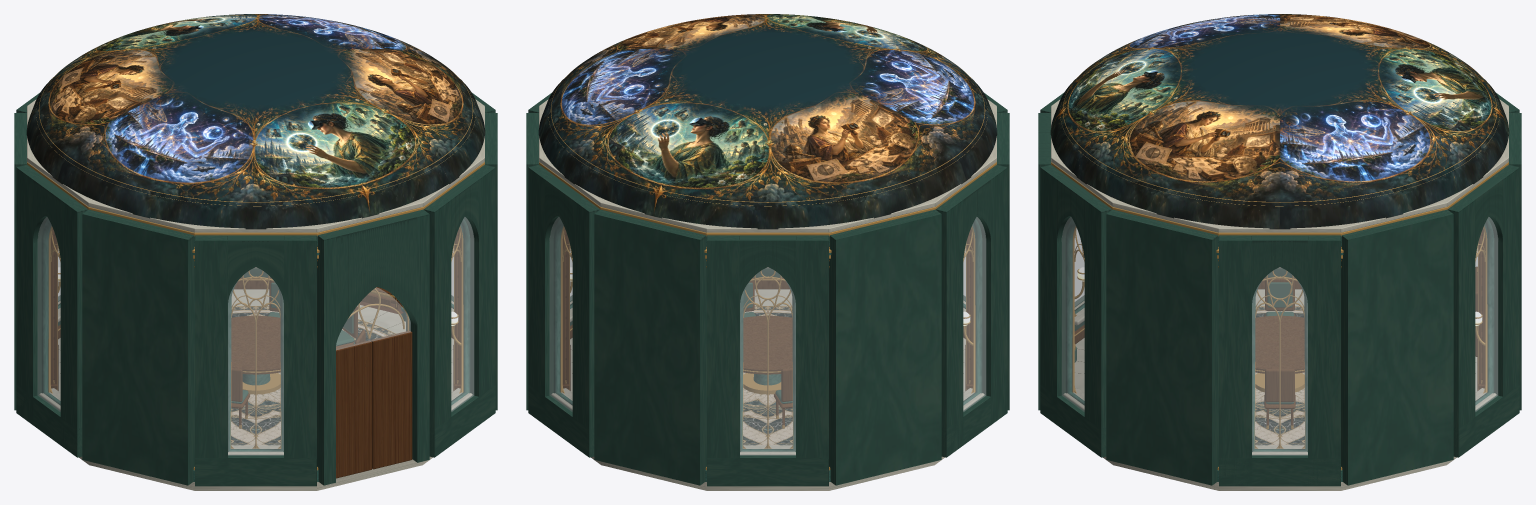
File: XR_Guild_Library_v1.glb
3 renders of one model, left to right at view 1: azimuth 30°, elevation 25°; view 2: azimuth 150°, elevation 25°; view 3: azimuth 270°, elevation 25°, orthographic.
Visible parts, largest first — view 1: Architecture | Deep malachite green plaster, Architecture | Fresco | Past / Present / Future | packed ori, Architecture | Clear architectural glass | transparent, not , Architecture | Warm ivory limestone, Architecture | Gilt brass | gently aged, Door_Right | Handcrafted figured walnut, Door_Left | Handcrafted figured walnut, Architecture | Verde antique marble, Optional_Meeting_Furniture | Handcrafted figured walnut, Architecture | Handcrafted figured walnut, Architecture | Mandala | veined marble intarsia, Optional_Meeting_Furniture | Bottle green velvet (+1 smaller); view 2: Architecture | Deep malachite green plaster, Architecture | Fresco | Past / Present / Future | packed ori, Architecture | Clear architectural glass | transparent, not , Architecture | Warm ivory limestone, Architecture | Gilt brass | gently aged, Architecture | Verde antique marble, Optional_Meeting_Furniture | Handcrafted figured walnut, Architecture | Handcrafted figured walnut, Architecture | Mandala | veined marble intarsia, Optional_Meeting_Furniture | Gilt brass | gently aged; view 3: Architecture | Deep malachite green plaster, Architecture | Fresco | Past / Present / Future | packed ori, Architecture | Clear architectural glass | transparent, not , Architecture | Warm ivory limestone, Architecture | Gilt brass | gently aged, Architecture | Verde antique marble, Optional_Meeting_Furniture | Handcrafted figured walnut, Architecture | Mandala | veined marble intarsia, Architecture | Handcrafted figured walnut, Optional_Meeting_Furniture | Bottle green velvet.
Part boxes in pixels (x1=…): Architecture | Deep malachite green plaster: x1=14, y1=93, x2=497, y2=486; Architecture | Fresco | Past / Present / Future | packed ori: x1=26, y1=14, x2=485, y2=229; Architecture | Clear architectural glass | transparent, not : x1=38, y1=217, x2=473, y2=455; Architecture | Warm ivory limestone: x1=27, y1=99, x2=484, y2=490; Architecture | Gilt brass | gently aged: x1=27, y1=65, x2=484, y2=470; Door_Right | Handcrafted figured walnut: x1=371, y1=330, x2=412, y2=469; Door_Left | Handcrafted figured walnut: x1=336, y1=340, x2=372, y2=478; Architecture | Verde antique marble: x1=41, y1=219, x2=470, y2=481; Optional_Meeting_Furniture | Handcrafted figured walnut: x1=231, y1=278, x2=365, y2=425; Architecture | Handcrafted figured walnut: x1=50, y1=228, x2=461, y2=389; Architecture | Mandala | veined marble intarsia: x1=231, y1=306, x2=394, y2=445; Optional_Meeting_Furniture | Bottle green velvet: x1=231, y1=282, x2=359, y2=403; Architecture | Deep malachite green plaster: x1=526, y1=93, x2=1009, y2=486; Architecture | Fresco | Past / Present / Future | packed ori: x1=538, y1=14, x2=997, y2=229; Architecture | Clear architectural glass | transparent, not : x1=550, y1=217, x2=985, y2=455; Architecture | Warm ivory limestone: x1=539, y1=99, x2=996, y2=490; Architecture | Gilt brass | gently aged: x1=539, y1=65, x2=996, y2=470; Architecture | Verde antique marble: x1=553, y1=219, x2=982, y2=481; Optional_Meeting_Furniture | Handcrafted figured walnut: x1=743, y1=278, x2=792, y2=425; Architecture | Handcrafted figured walnut: x1=562, y1=228, x2=973, y2=389; Architecture | Mandala | veined marble intarsia: x1=743, y1=306, x2=792, y2=445; Optional_Meeting_Furniture | Gilt brass | gently aged: x1=743, y1=370, x2=784, y2=428; Architecture | Deep malachite green plaster: x1=1038, y1=93, x2=1521, y2=486; Architecture | Fresco | Past / Present / Future | packed ori: x1=1050, y1=14, x2=1509, y2=229; Architecture | Clear architectural glass | transparent, not : x1=1062, y1=217, x2=1497, y2=455; Architecture | Warm ivory limestone: x1=1051, y1=99, x2=1508, y2=490; Architecture | Gilt brass | gently aged: x1=1051, y1=65, x2=1508, y2=470; Architecture | Verde antique marble: x1=1065, y1=219, x2=1494, y2=481; Optional_Meeting_Furniture | Handcrafted figured walnut: x1=1255, y1=277, x2=1304, y2=425; Architecture | Mandala | veined marble intarsia: x1=1255, y1=307, x2=1304, y2=445; Architecture | Handcrafted figured walnut: x1=1074, y1=228, x2=1485, y2=389; Optional_Meeting_Furniture | Bottle green velvet: x1=1265, y1=282, x2=1294, y2=404.
Size of the model in its own units: 8.48 by 6.4 by 8.48.
Materials: 18 (9 with a texture image).
